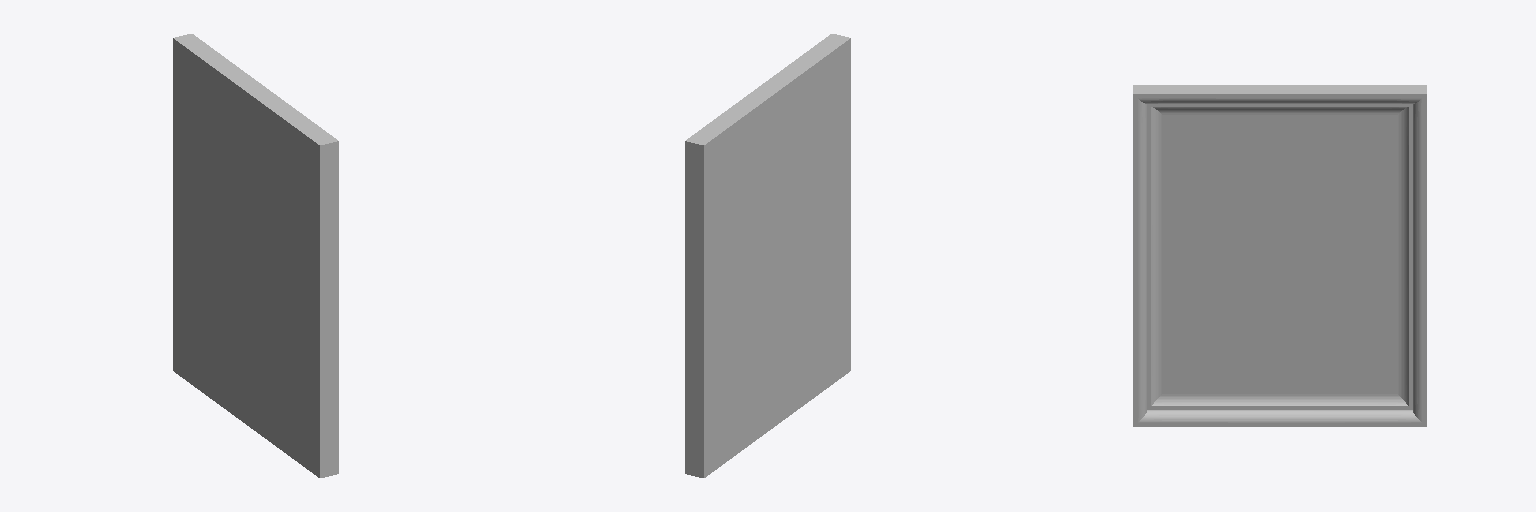
File: pier_picture frame.obj
3 renders of one model, left to right at view 1: azimuth 30°, elevation 25°; view 2: azimuth 150°, elevation 25°; view 3: azimuth 270°, elevation 25°, orthographic.
Visible parts, largest first — view 1: frame.001, back_panel.001; view 2: frame.001, back_panel.001; view 3: frame.001, back_panel.001.
Part boxes in pixels (x1,y1,x2,y2): frame.001: (173,37,325,477); back_panel.001: (179,34,338,476); frame.001: (698,37,850,477); back_panel.001: (685,34,844,476); frame.001: (1133,85,1426,393); back_panel.001: (1133,88,1426,426).
Size of the model in its own units: 15 by 250 by 200.